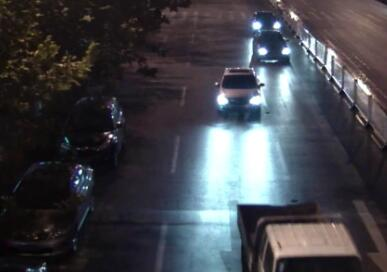car: (2, 154, 101, 257), (233, 198, 369, 270), (56, 88, 126, 160), (211, 62, 269, 121), (249, 26, 293, 62), (253, 12, 285, 34)
